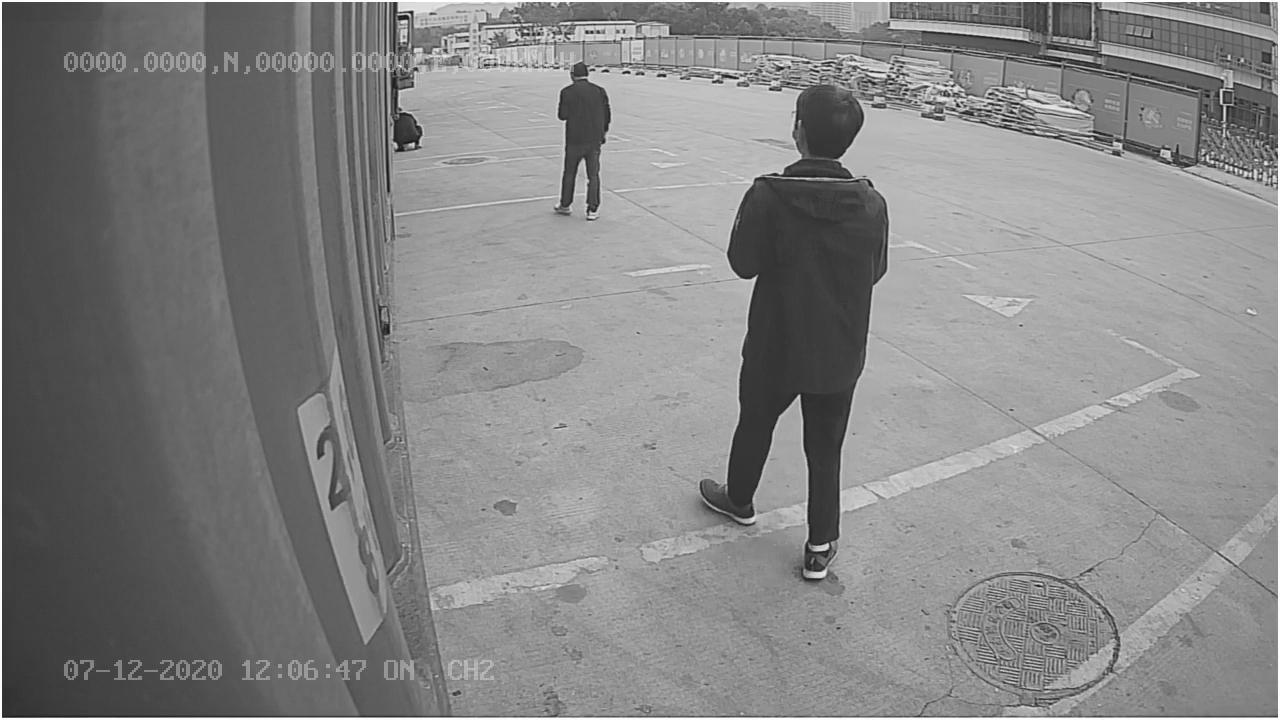person: (685, 70, 899, 583)
